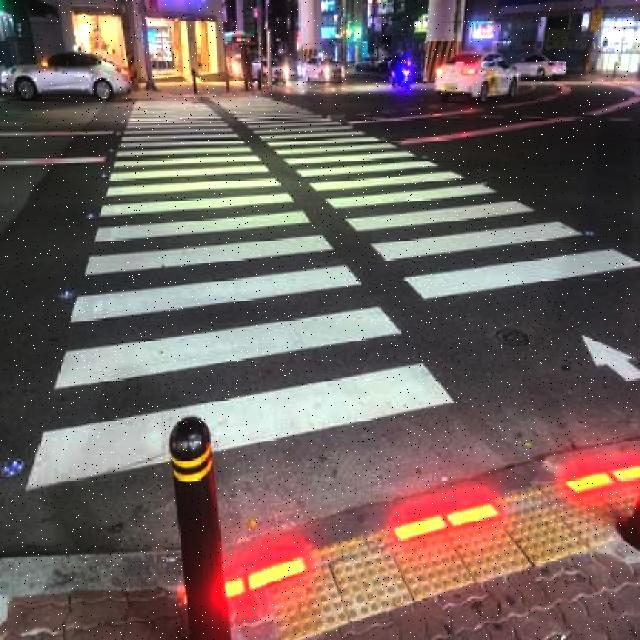crosswalk: (31, 94, 639, 523)
